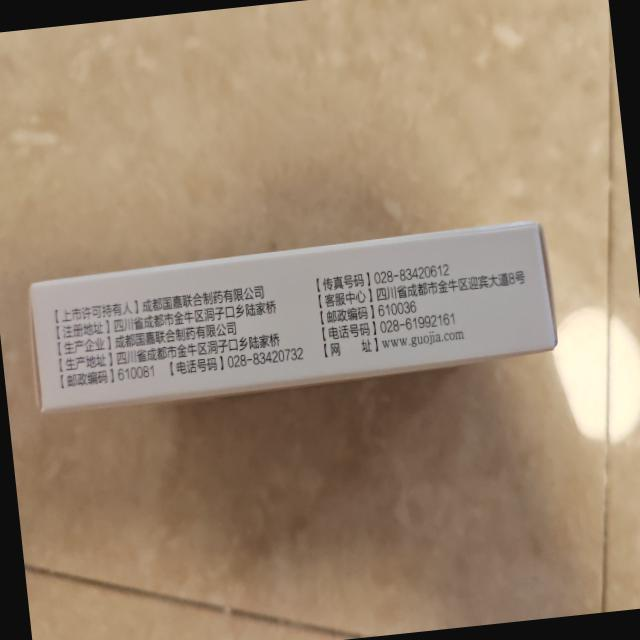box: (13, 210, 571, 432)
